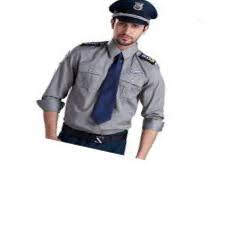uniform: (32, 31, 182, 172)
